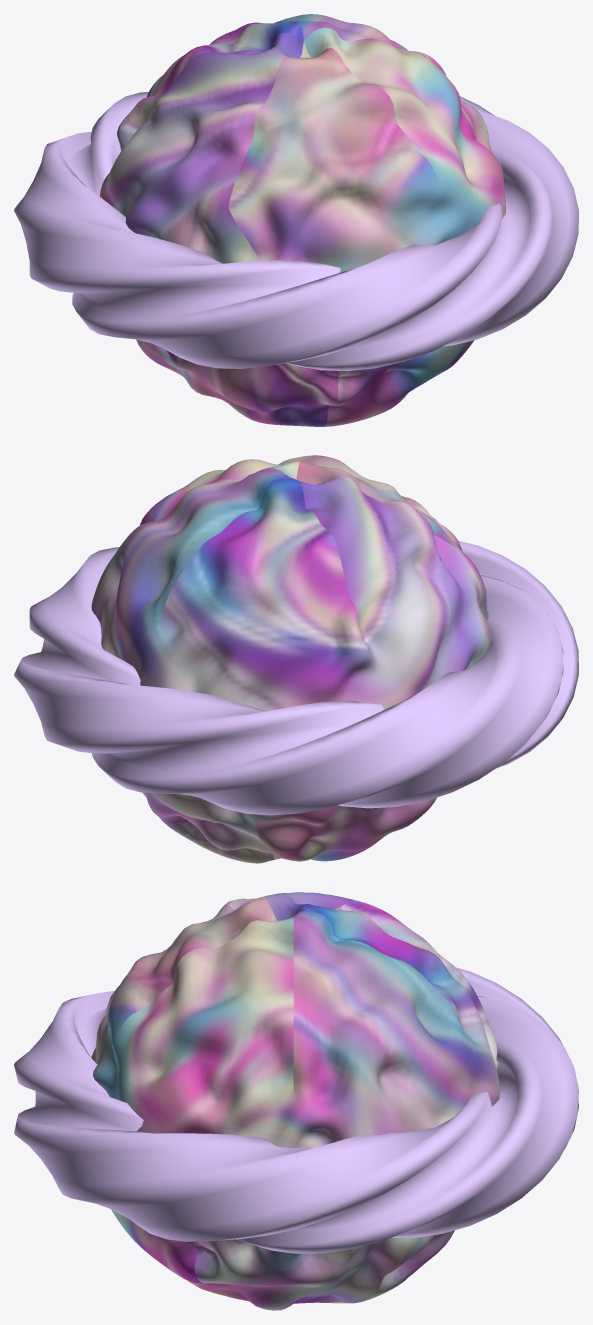
3 renders of one model, top to bottom at view 1: azimuth 30°, elevation 25°; view 2: azimuth 150°, elevation 25°; view 3: azimuth 270°, elevation 25°, orthographic.
Parts seen in each view (by area): view 1: Infuse Icon, Intense Icon; view 2: Infuse Icon, Intense Icon; view 3: Infuse Icon, Intense Icon.
Boxes of the visible parts, <box> form: Infuse Icon: <box>99,14,505,426</box>; Intense Icon: <box>14,92,578,371</box>; Infuse Icon: <box>91,455,491,863</box>; Intense Icon: <box>14,541,578,815</box>; Infuse Icon: <box>91,892,500,1310</box>; Intense Icon: <box>14,967,578,1253</box>.
Size of the model in its own units: 197 by 143 by 192.
Materials: 2 (1 with a texture image).
